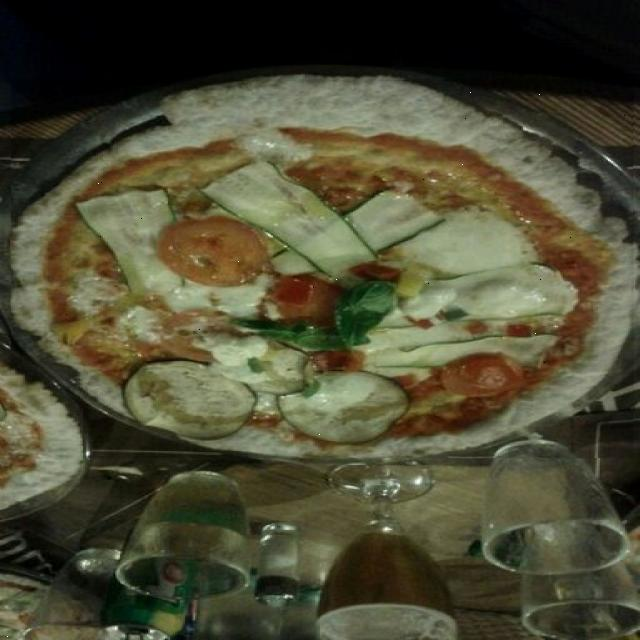pizza: (11, 80, 633, 457), (1, 365, 83, 509), (0, 573, 50, 640)
